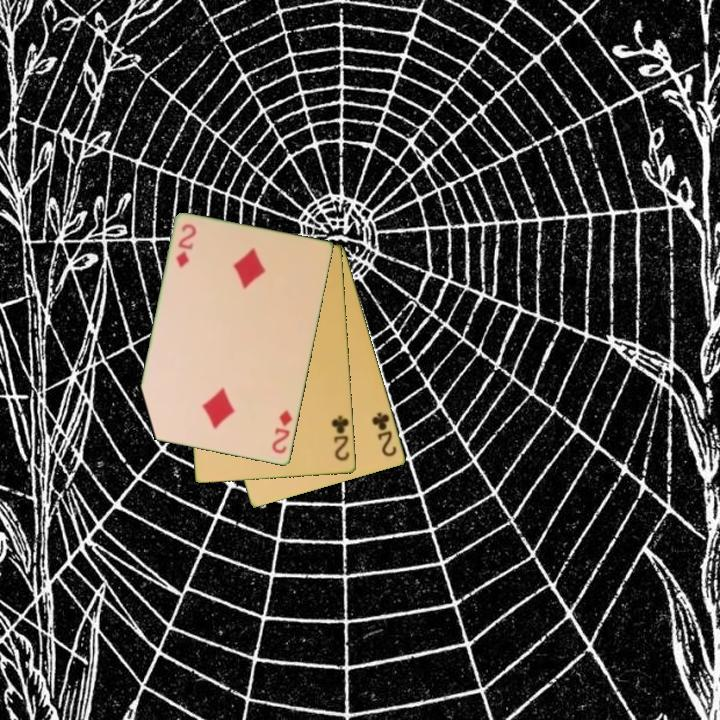2c: (368, 409, 400, 460), (328, 412, 353, 464)
2d: (173, 220, 199, 271), (269, 407, 295, 457)
